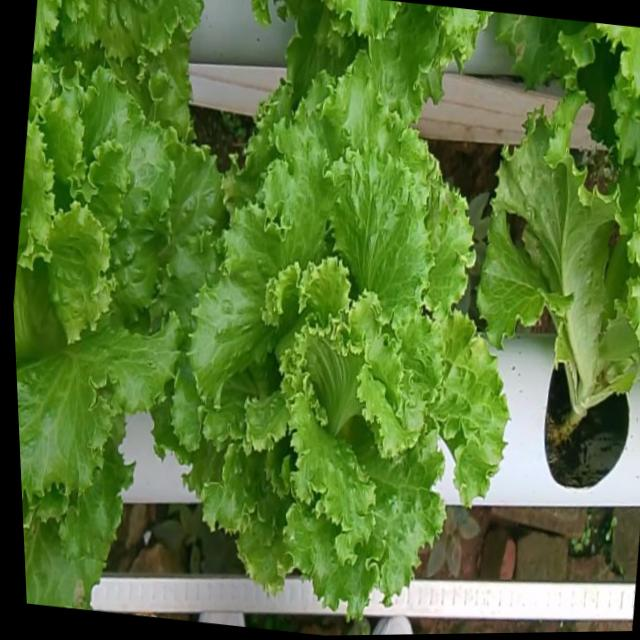Mature: (170, 76, 508, 618), (13, 71, 222, 507)
